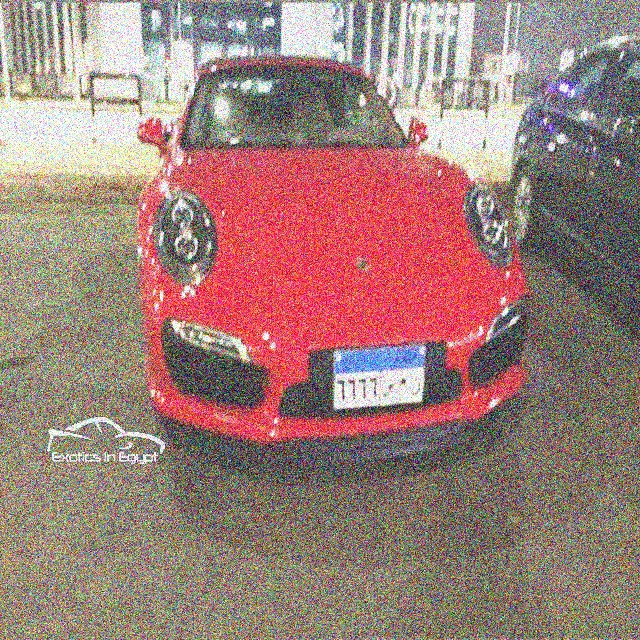License Plate: (330, 341, 427, 415)
